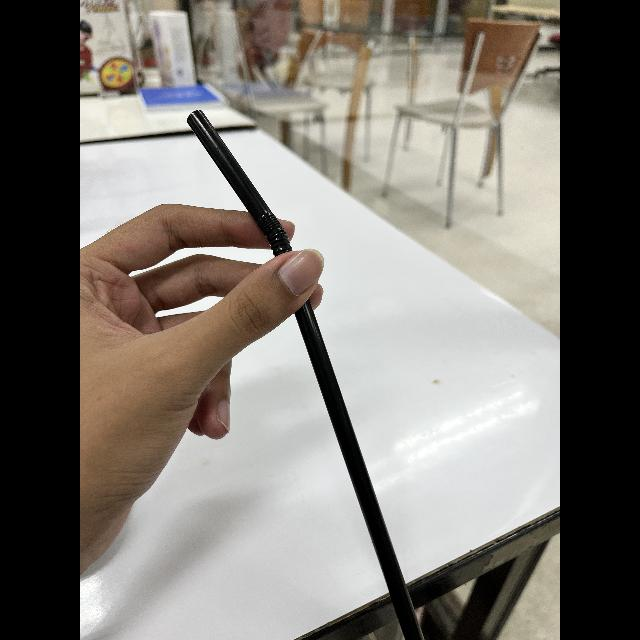straw: (182, 110, 430, 640)
